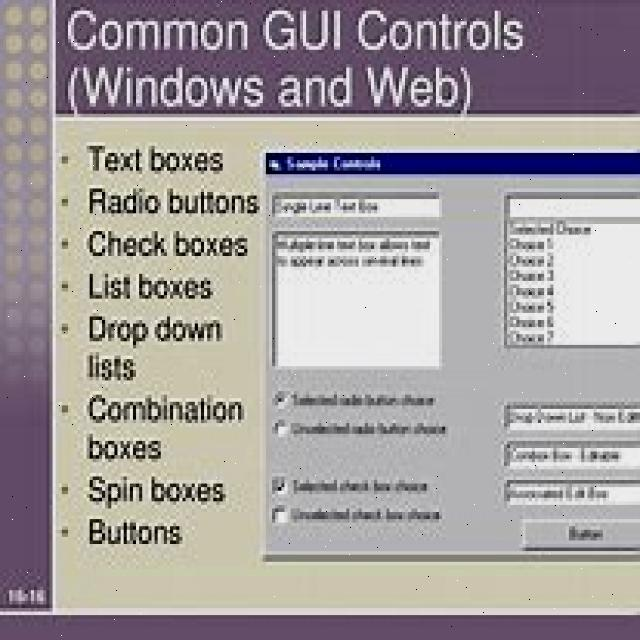button: (520, 516, 640, 550)
checkbox: (269, 470, 290, 497), (269, 505, 290, 527)
icon: (263, 153, 283, 172)
input: (270, 229, 444, 373), (501, 187, 639, 354), (270, 188, 447, 220), (501, 439, 638, 475), (502, 401, 640, 436), (502, 477, 640, 508)
label: (53, 2, 640, 111), (84, 390, 248, 427), (84, 309, 222, 350), (85, 187, 261, 219), (84, 473, 232, 511), (86, 142, 228, 178), (82, 228, 251, 258), (86, 267, 216, 305), (81, 515, 188, 550), (291, 387, 441, 411), (295, 420, 457, 440), (292, 474, 432, 496), (84, 431, 170, 465), (294, 506, 447, 525), (285, 152, 385, 174), (86, 348, 144, 384), (2, 583, 50, 608)
radio: (272, 414, 290, 440), (272, 388, 288, 410)
